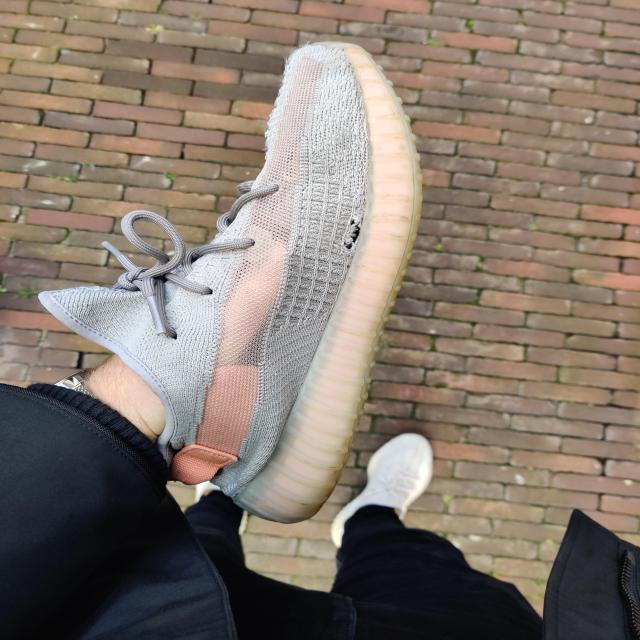shoe: (134, 42, 417, 524), (362, 432, 434, 523)
